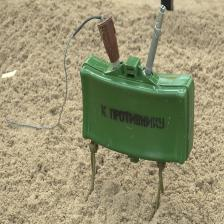MOH-50: (82, 44, 195, 169)
